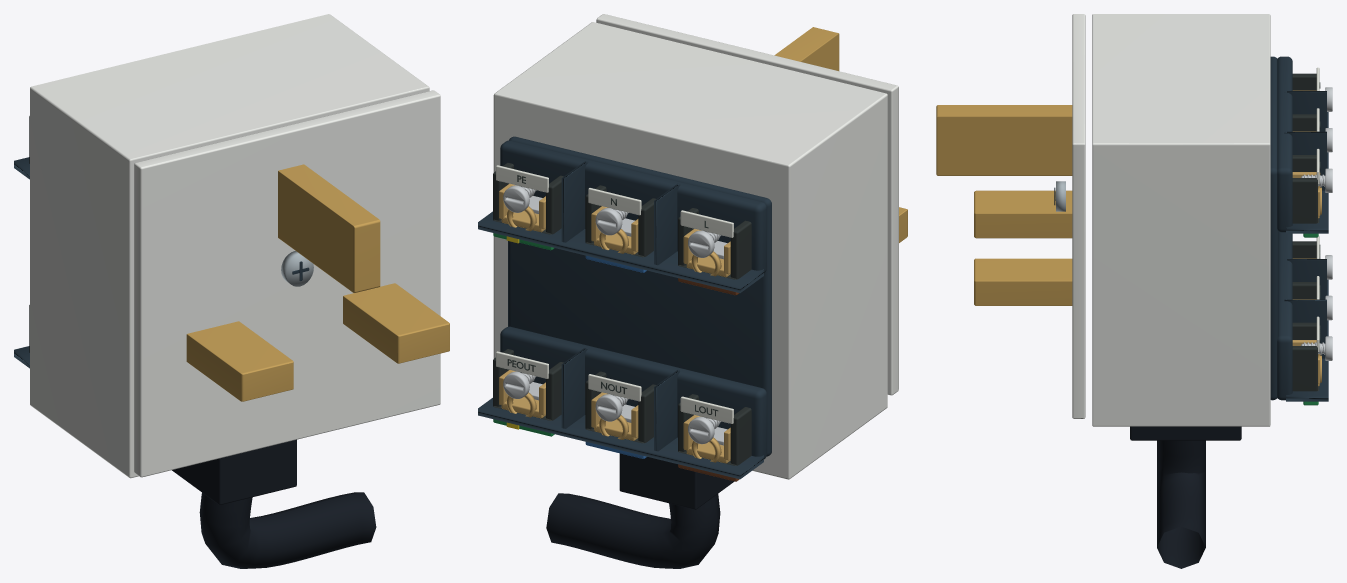
Rendered from plug_default.glb.
3 renders of one model, left to right at view 1: azimuth 30°, elevation 25°; view 2: azimuth 150°, elevation 25°; view 3: azimuth 270°, elevation 25°, orthographic. The views are drawn at different scales.
Parts seen in each view (by area): view 1: part:cover, part:body, part:body.001 · Original df732090, part:sheath; view 2: part:body, part:terminals · Original a463fd81, part:sheath, part:cover, part:body.001 · Original df732090, detail:terminal-clamp:LOUT · Detail moulded engineering poly, detail:terminal-clamp:L · Detail moulded engineering polymer, detail:terminal-clamp:NOUT · Detail moulded engineering poly, detail:terminal-clamp:N · Detail moulded engineering polymer, detail:terminal-clamp:PEOUT · Detail moulded engineering pol, detail:terminal-clamp:PE · Detail moulded engineering polyme, detail:terminal-clamp:NOUT · Detail machined brass (+17 smaller); view 3: part:body, part:body.001 · Original df732090, part:terminals · Original a463fd81, part:sheath, part:cover, detail:terminal-clamp:PEOUT · Detail moulded engineering pol, detail:terminal-clamp:PE · Detail moulded engineering polyme.
Part boxes in pixels (x1,y1,x2,y2): part:cover: (134, 90, 440, 477); part:body: (30, 14, 429, 504); part:body.001 · Original df732090: (186, 164, 449, 401); part:sheath: (199, 492, 376, 568); part:body: (493, 22, 887, 509); part:terminals · Original a463fd81: (478, 136, 771, 479); part:sheath: (546, 493, 720, 568); part:cover: (596, 14, 898, 395); part:body.001 · Original df732090: (774, 27, 907, 242); detail:terminal-clamp:LOUT · Detail moulded engineering poly: (678, 394, 751, 465); detail:terminal-clamp:L · Detail moulded engineering polymer: (678, 208, 751, 279); detail:terminal-clamp:NOUT · Detail moulded engineering poly: (585, 371, 656, 443); detail:terminal-clamp:N · Detail moulded engineering polymer: (585, 185, 655, 257); detail:terminal-clamp:PEOUT · Detail moulded engineering pol: (493, 349, 563, 420); detail:terminal-clamp:PE · Detail moulded engineering polyme: (493, 162, 563, 234); detail:terminal-clamp:NOUT · Detail machined brass: (591, 392, 638, 440); part:body: (1092, 14, 1270, 440); part:body.001 · Original df732090: (936, 105, 1072, 305); part:terminals · Original a463fd81: (1270, 56, 1328, 401); part:sheath: (1157, 440, 1205, 568); part:cover: (1056, 14, 1085, 418); detail:terminal-clamp:PEOUT · Detail moulded engineering pol: (1292, 322, 1319, 391); detail:terminal-clamp:PE · Detail moulded engineering polyme: (1292, 155, 1319, 223).
Bounding box in the file's own units: 0.6515 × 1.01 × 0.8373.
